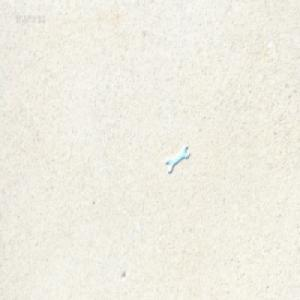Wrench: (164, 143, 189, 171)
